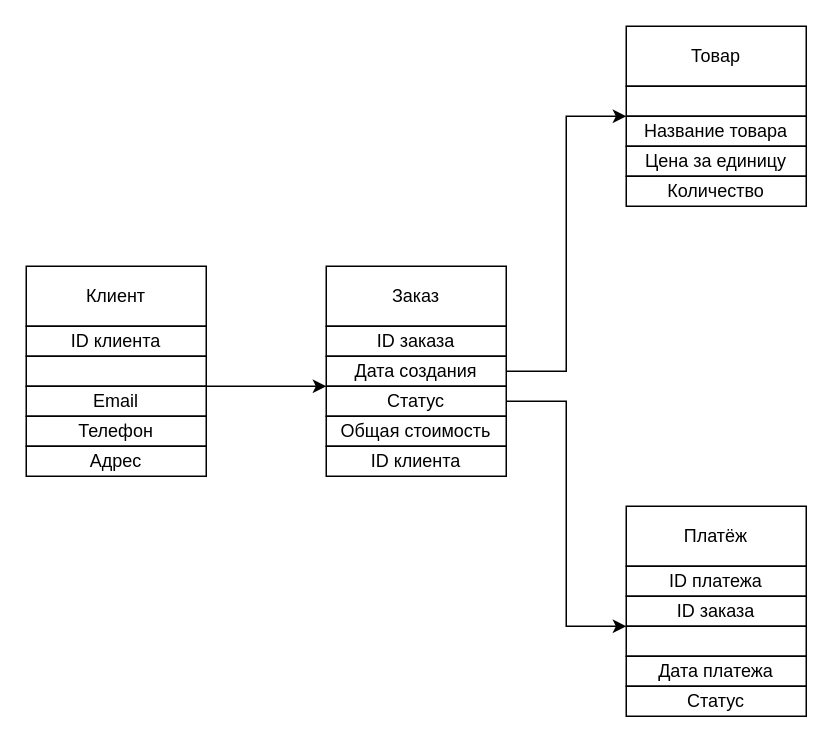
Some shapes in this 833 by 743 pixel diagram are drawn without their labels. Here are the shapes that lost their labels. From the top down, the centre of each, then its label:
the point at 715,100: ID товара
the point at 115,370: Имя
the point at 715,640: Сумма платежа
